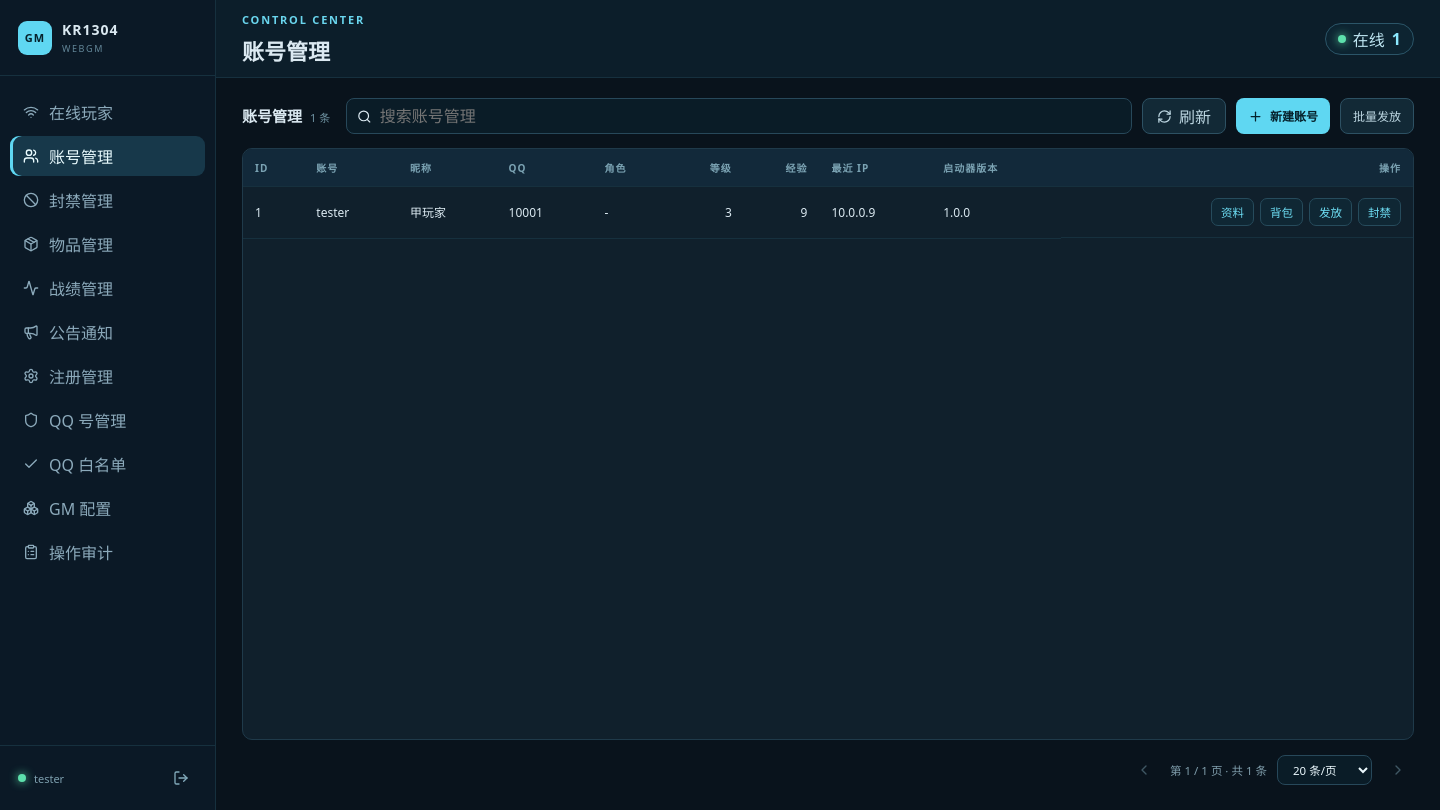
it: WebGM 页面 › 封禁账号：标题带昵称，仅开放已支持的 IP 封禁
Click the button "封禁" at (1380, 212), box [1358, 198, 1401, 226]
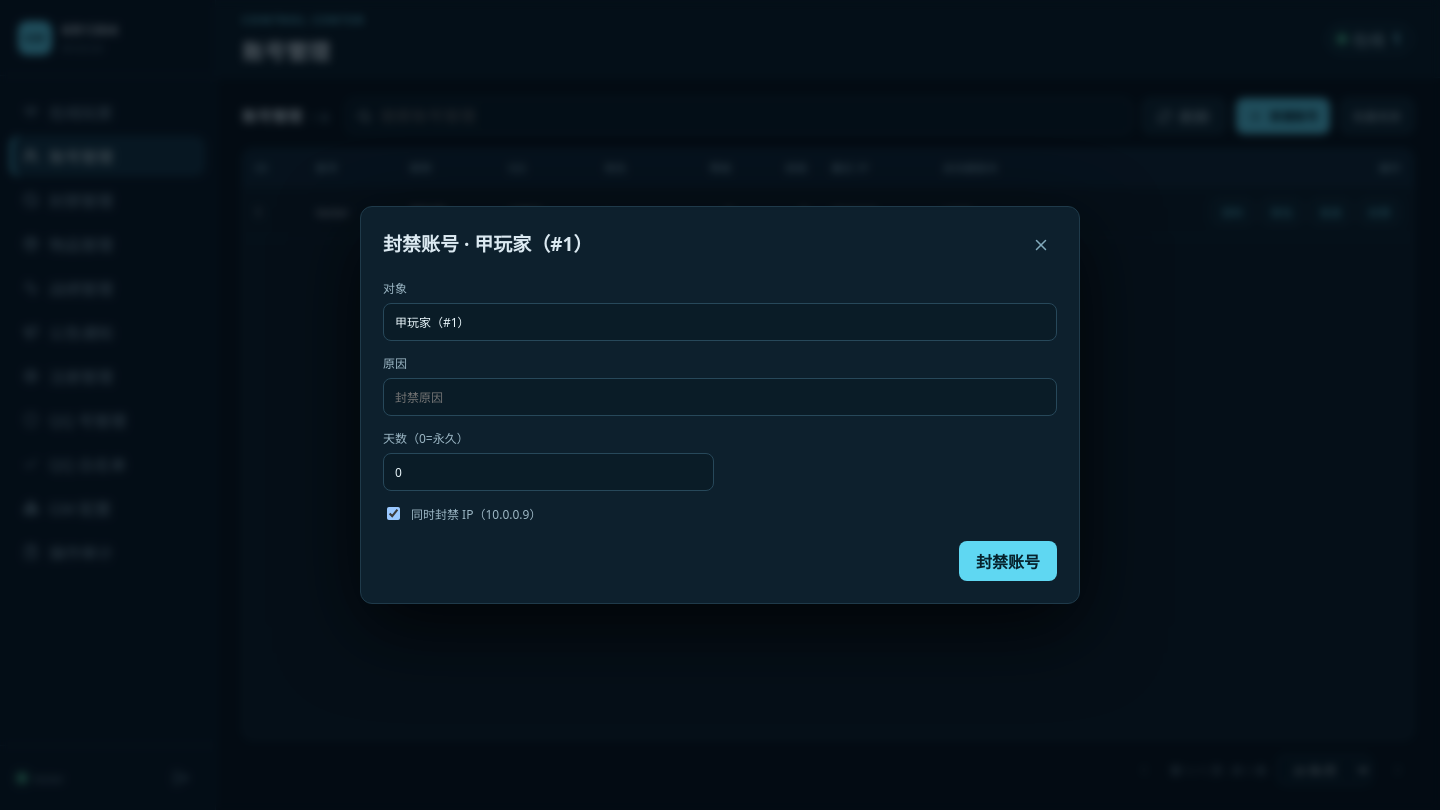
expect the heading "封禁账号 · 甲玩家（#1）" is shown: met, box [383, 229, 592, 257]
expect the element with class "modal-panel" shows "同时封禁 IP": met, box [411, 506, 541, 522]
expect the element with class "modal-panel" shows "10.0.0.9": met, box [411, 506, 541, 522]
